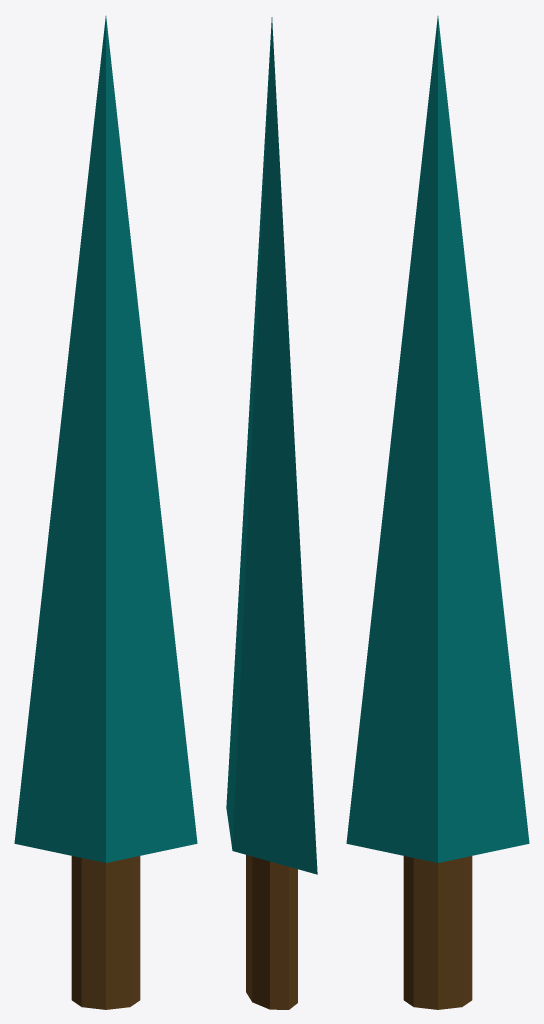
File: Sword.fbx
3 renders of one model, left to right at view 1: azimuth 90°, elevation 25°; view 2: azimuth 210°, elevation 25°; view 3: azimuth 270°, elevation 25°, orthographic.
Visible parts, largest first — view 1: Blade, Log; view 2: Blade, Log; view 3: Blade, Log.
Boxes of the visible parts, box(x1,y1,x2,y2) form: Blade: box(14, 16, 197, 862); Log: box(71, 856, 140, 1009); Blade: box(226, 17, 317, 874); Log: box(246, 855, 297, 1009); Blade: box(346, 16, 529, 862); Log: box(403, 856, 472, 1009).
Bounding box in the file's own units: 200 × 2377 × 400.
